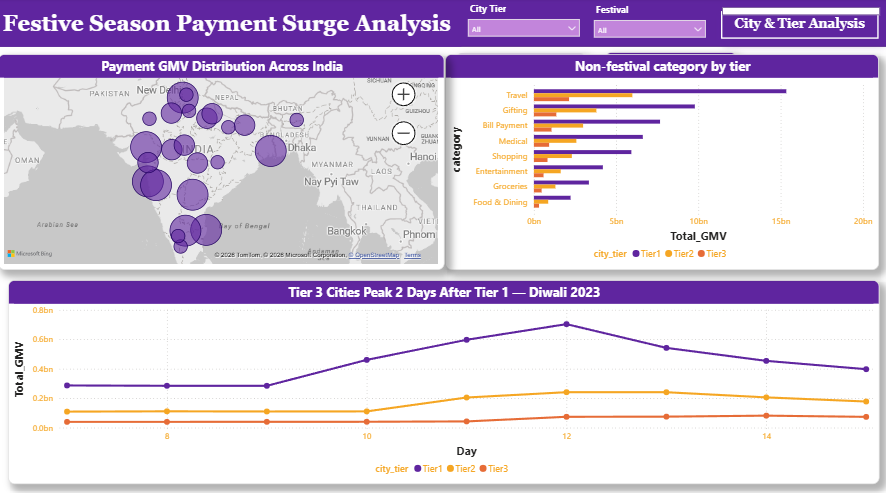

The dashboard page shown, as its layout file describes it:
{"tool":"powerbi","page":{"name":"City & Tier Analysis","canvas":[1280,720],"ordinal":2},"visuals":[{"type":"group","id":"g1","title":"Group 1","box":[0,0,1280,70],"z":0},{"type":"shape","box":[0,0,1280,70],"z":0,"group":"g1"},{"type":"textbox","box":[0,13.2,667.1,56.6],"z":1000,"group":"g1"},{"type":"shape","box":[1042.1,13.2,227.6,11.8],"z":1000},{"type":"textbox","box":[1041.7,18.3,226.7,40],"z":2000,"group":"g1"},{"type":"group","id":"g2","title":"Group 3","box":[658.3,78.3,405.9,177.1],"z":2000},{"type":"group","id":"g3","title":"Group 2","box":[658.3,78.3,405.9,177.1],"z":3000,"group":"g2"},{"type":"lineChart","title":"Tier 3 Cities Peak 2 Days After Tier 1 — Diwali 2023","fields":{"Category":["phonepe payments.date.Variation.Date Hierarchy.Day"],"Y":["phonepe payments.Total_GMV"],"Series":["phonepe payments.city_tier"]},"box":[15.1,406.5,1254.8,294],"z":3000},{"type":"clusteredBarChart","title":"Non-festival category by tier","fields":{"Y":["phonepe payments.Total_GMV"],"Series":["phonepe payments.city_tier"],"Category":["phonepe payments.category"]},"box":[643.4,80.6,624.9,310.8],"z":4000},{"type":"textbox","box":[686.6,229.7,140.7,23.6],"z":4000,"group":"g2"},{"type":"map","title":"Payment GMV Distribution Across India","fields":{"Category":["phonepe payments.city"],"Size":["phonepe payments.Total_GMV"]},"box":[0,80.6,643.4,310.8],"z":5000},{"type":"textbox","box":[882,225.8,181.7,28.8],"z":5000,"group":"g2"},{"type":"cardVisual","title":"Total Transactions","fields":{"Data":["phonepe payments.Total_Transactions"]},"box":[874,78.3,190.2,175.3],"z":6000,"group":"g3"},{"type":"cardVisual","title":"Ticket Size","fields":{"Data":["phonepe payments.Avg_Ticket_Size"]},"box":[658.3,80.1,190.2,175.3],"z":7000,"group":"g3"},{"type":"slicer","fields":{"Values":["phonepe payments.festival_name"]},"box":[848.2,2.9,181.4,66.2],"z":7001},{"type":"slicer","fields":{"Values":["phonepe payments.city_tier"]},"box":[666.7,1.4,181.4,66.2],"z":7002}]}

Visuals, with their boxes in screenshot pixels (x1, y1, x2, y2), scaled from the page's 1280x720 canvas onto the 886x493 screenshot:
"Group 1" group: 0/0/885/48
shape: 0/0/885/48
textbox: 0/9/462/48
shape: 721/9/879/17
textbox: 721/13/878/40
"Group 3" group: 456/54/737/175
"Group 2" group: 456/54/737/175
"Tier 3 Cities Peak 2 Days After Tier 1 — Diwali 2023" lineChart: 10/278/879/480
"Non-festival category by tier" clusteredBarChart: 445/55/878/268
textbox: 475/157/573/173
"Payment GMV Distribution Across India" map: 0/55/445/268
textbox: 611/155/736/174
"Total Transactions" cardVisual: 605/54/737/174
"Ticket Size" cardVisual: 456/55/587/175
slicer - phonepe payments.festival_name: 587/2/713/47
slicer - phonepe payments.city_tier: 461/1/587/46
